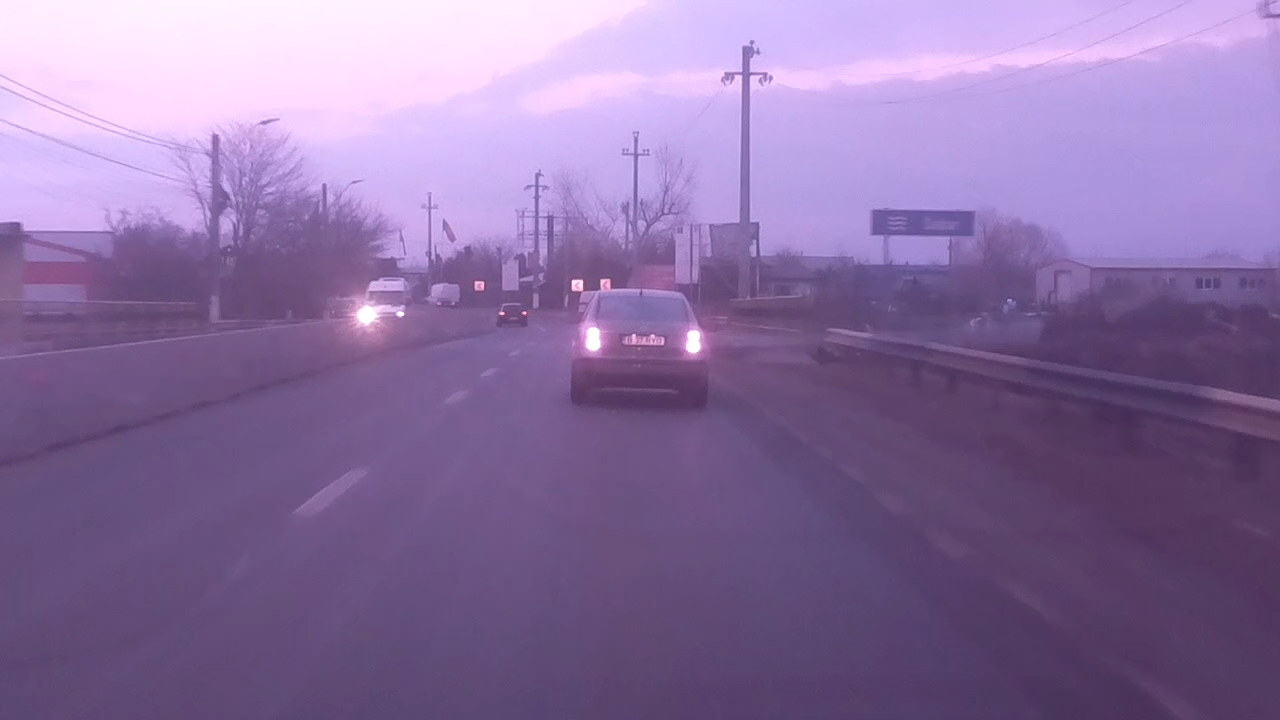license-plate: (621, 333, 667, 348)
